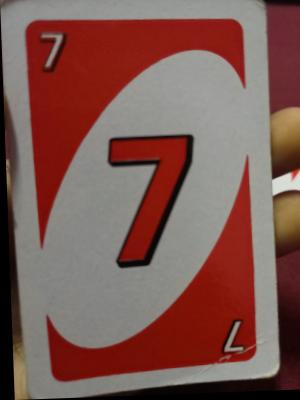num_7: (29, 18, 71, 78)
